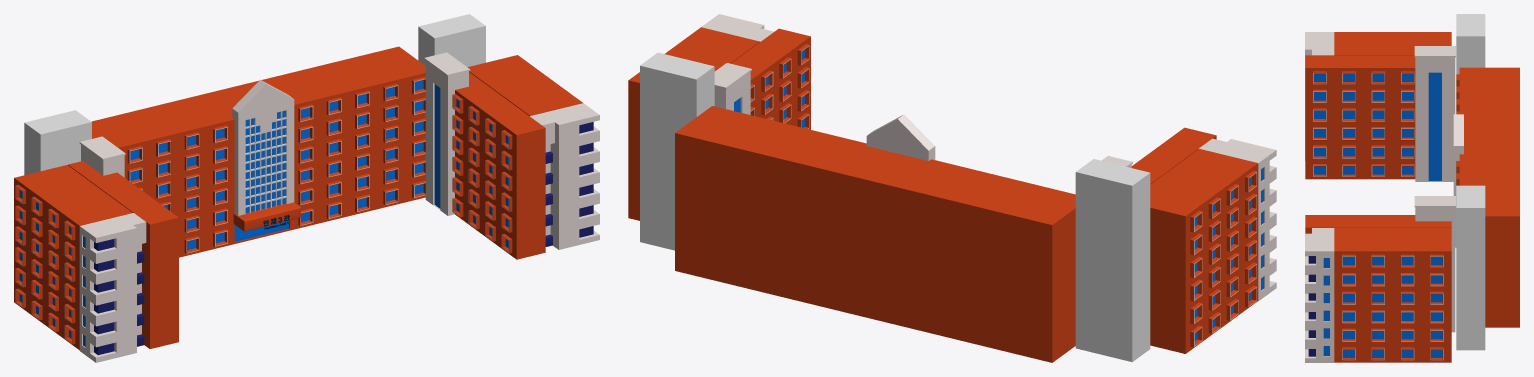
File: 인재관.fbx
3 views of the same model, side by side, from view 1: azimuth 30°, elevation 25°; view 2: azimuth 150°, elevation 25°; view 3: azimuth 270°, elevation 25° (orthographic). The views are drawn at different scales.
Visible parts, largest first — view 1: Cube_161, Cube_164_2, Cube_163, Cube, Cube_171, Cube_157, Cube_169, Cube_162, Cube_160, Cube_170, Cube_163_2, Cube_1; view 2: Cube_161, Cube_171, Cube, Cube_164_2, Cube_163, Cube_157, Cube_169, Cube_1; view 3: Cube, Cube_164_2, Cube_161, Cube_171, Cube_169, Cube_163, Cube_163_2, Cube_1, Cube_170, Cube_157, Cube_2.
Part boxes in pixels (left/top/right/bottom): Cube_161: left=91, top=46, right=425, bottom=257; Cube_164_2: left=68, top=72, right=545, bottom=348; Cube_163: left=79, top=103, right=599, bottom=362; Cube: left=14, top=55, right=582, bottom=349; Cube_171: left=24, top=14, right=485, bottom=175; Cube_157: left=232, top=79, right=294, bottom=215; Cube_169: left=79, top=52, right=470, bottom=215; Cube_162: left=130, top=80, right=423, bottom=249; Cube_160: left=245, top=110, right=285, bottom=212; Cube_170: left=434, top=84, right=440, bottom=208; Cube_163_2: left=456, top=99, right=508, bottom=248; Cube_1: left=19, top=190, right=71, bottom=338; Cube_161: left=675, top=106, right=1075, bottom=362; Cube_171: left=640, top=52, right=1150, bottom=362; Cube: left=628, top=27, right=1258, bottom=353; Cube_164_2: left=731, top=28, right=1216, bottom=184; Cube_163: left=701, top=14, right=1276, bottom=301; Cube_157: left=866, top=114, right=935, bottom=160; Cube_169: left=714, top=63, right=1132, bottom=167; Cube_1: left=1194, top=176, right=1251, bottom=340; Cube: left=1334, top=32, right=1451, bottom=362; Cube_164_2: left=1305, top=55, right=1451, bottom=233; Cube_161: left=1456, top=67, right=1519, bottom=327; Cube_171: left=1456, top=14, right=1485, bottom=350; Cube_169: left=1414, top=46, right=1455, bottom=332; Cube_163: left=1305, top=32, right=1334, bottom=362; Cube_163_2: left=1314, top=73, right=1413, bottom=174; Cube_1: left=1343, top=257, right=1442, bottom=357; Cube_170: left=1428, top=72, right=1441, bottom=181; Cube_157: left=1453, top=114, right=1463, bottom=247; Cube_2: left=1323, top=258, right=1329, bottom=355.
Bounding box in the file's own units: 1901 × 568 × 777.
